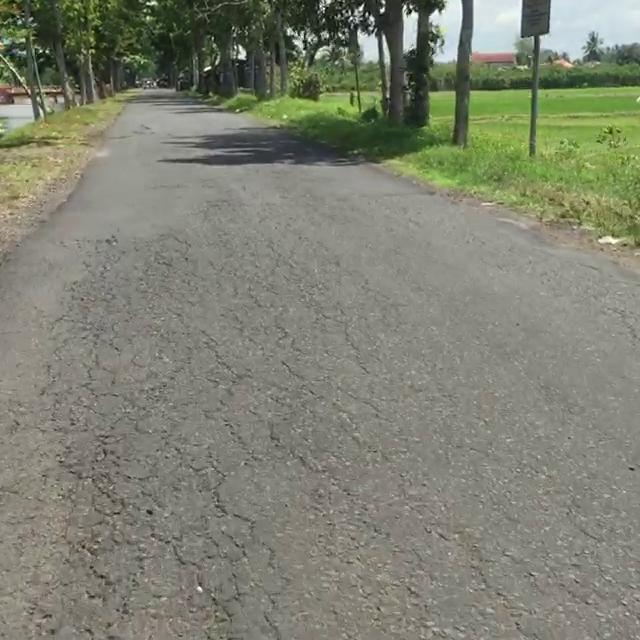retak_kulit_buaya: (5, 251, 284, 640)
